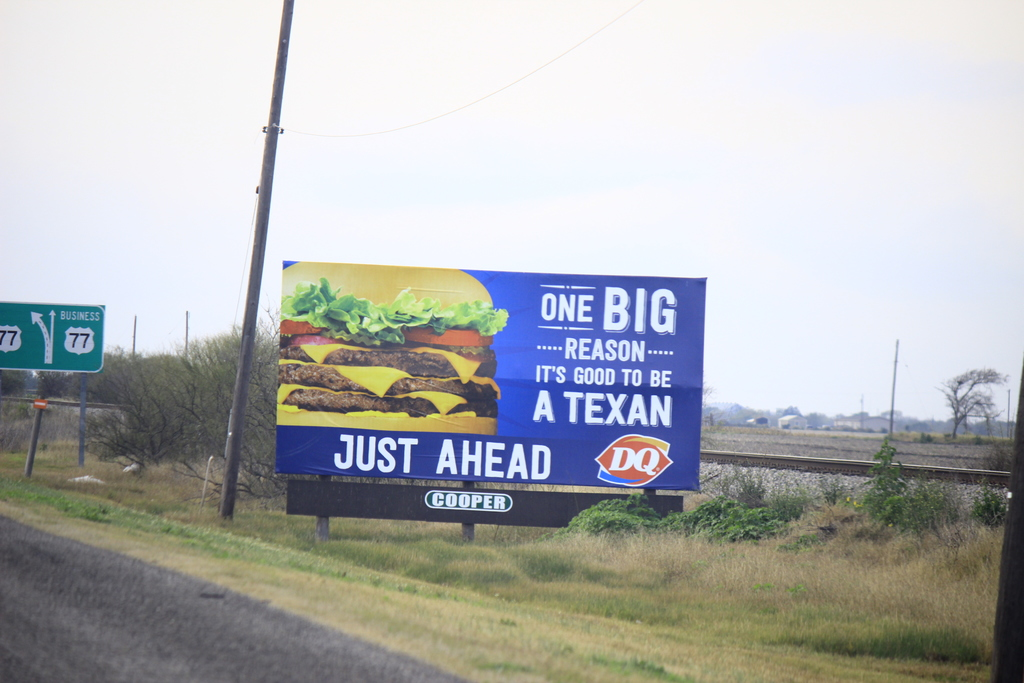Hamburger: (277, 272, 408, 417), (387, 304, 491, 425)
